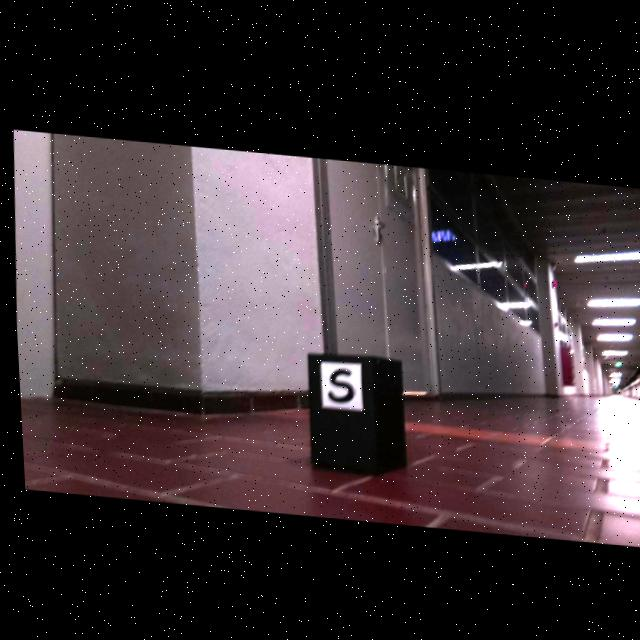S: (324, 364, 350, 398)
